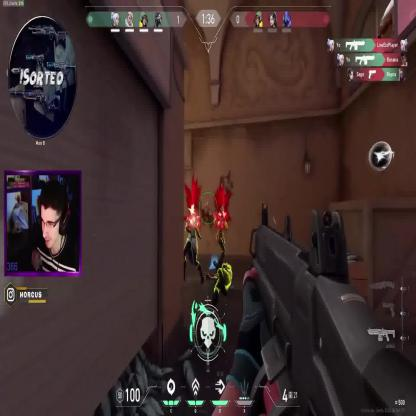enemy: (182, 206, 204, 284), (214, 206, 228, 270)
enemy_head: (188, 206, 197, 221), (218, 206, 226, 220)
